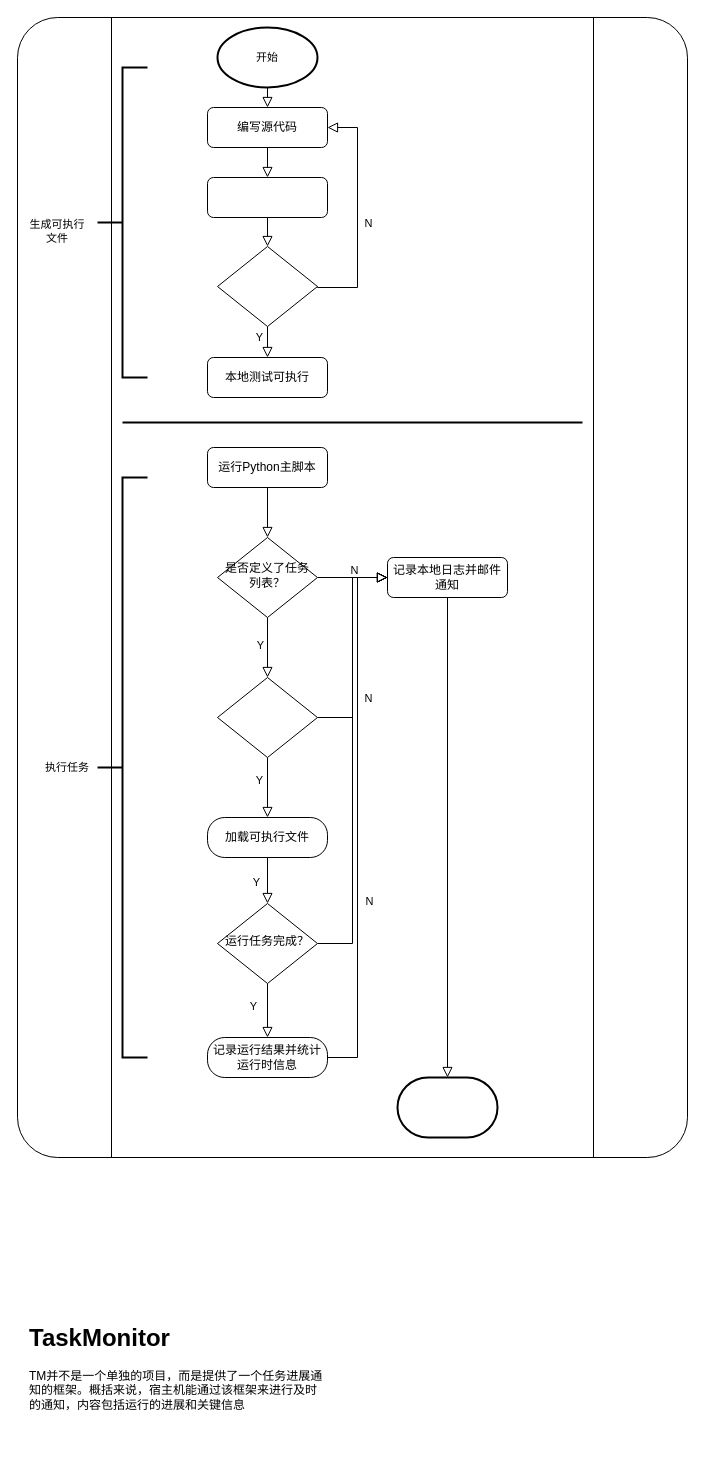
Some shapes in this 705 by 1458 pixel diagram are drawn without their labels. Here are the shapes that lost their labels. From the top down, the centre of each, then its label:
point 267,197: 编译 源代码
point 267,286: 确定是否生成可执行文件？
point 267,717: 任务和可执行文件是否对应？
point 447,1107: 结束
